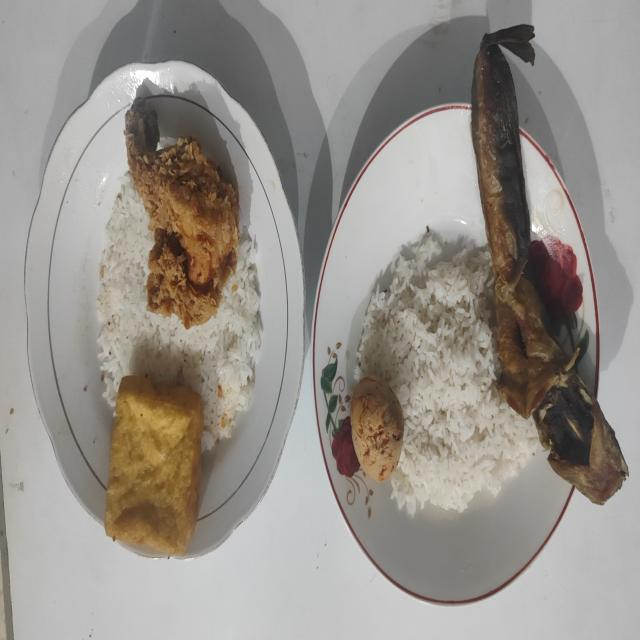nasi_putih: (356, 235, 540, 514), (97, 180, 263, 450)
tahu_goreng: (104, 376, 204, 555)
